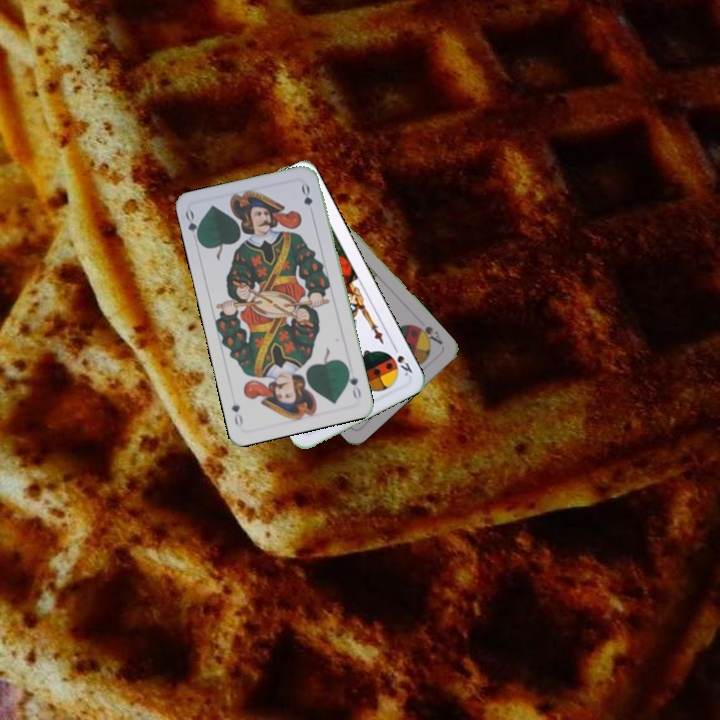GO: (181, 206, 203, 246), (343, 363, 364, 402)
SA: (410, 321, 445, 347)
SK: (385, 341, 415, 379)
